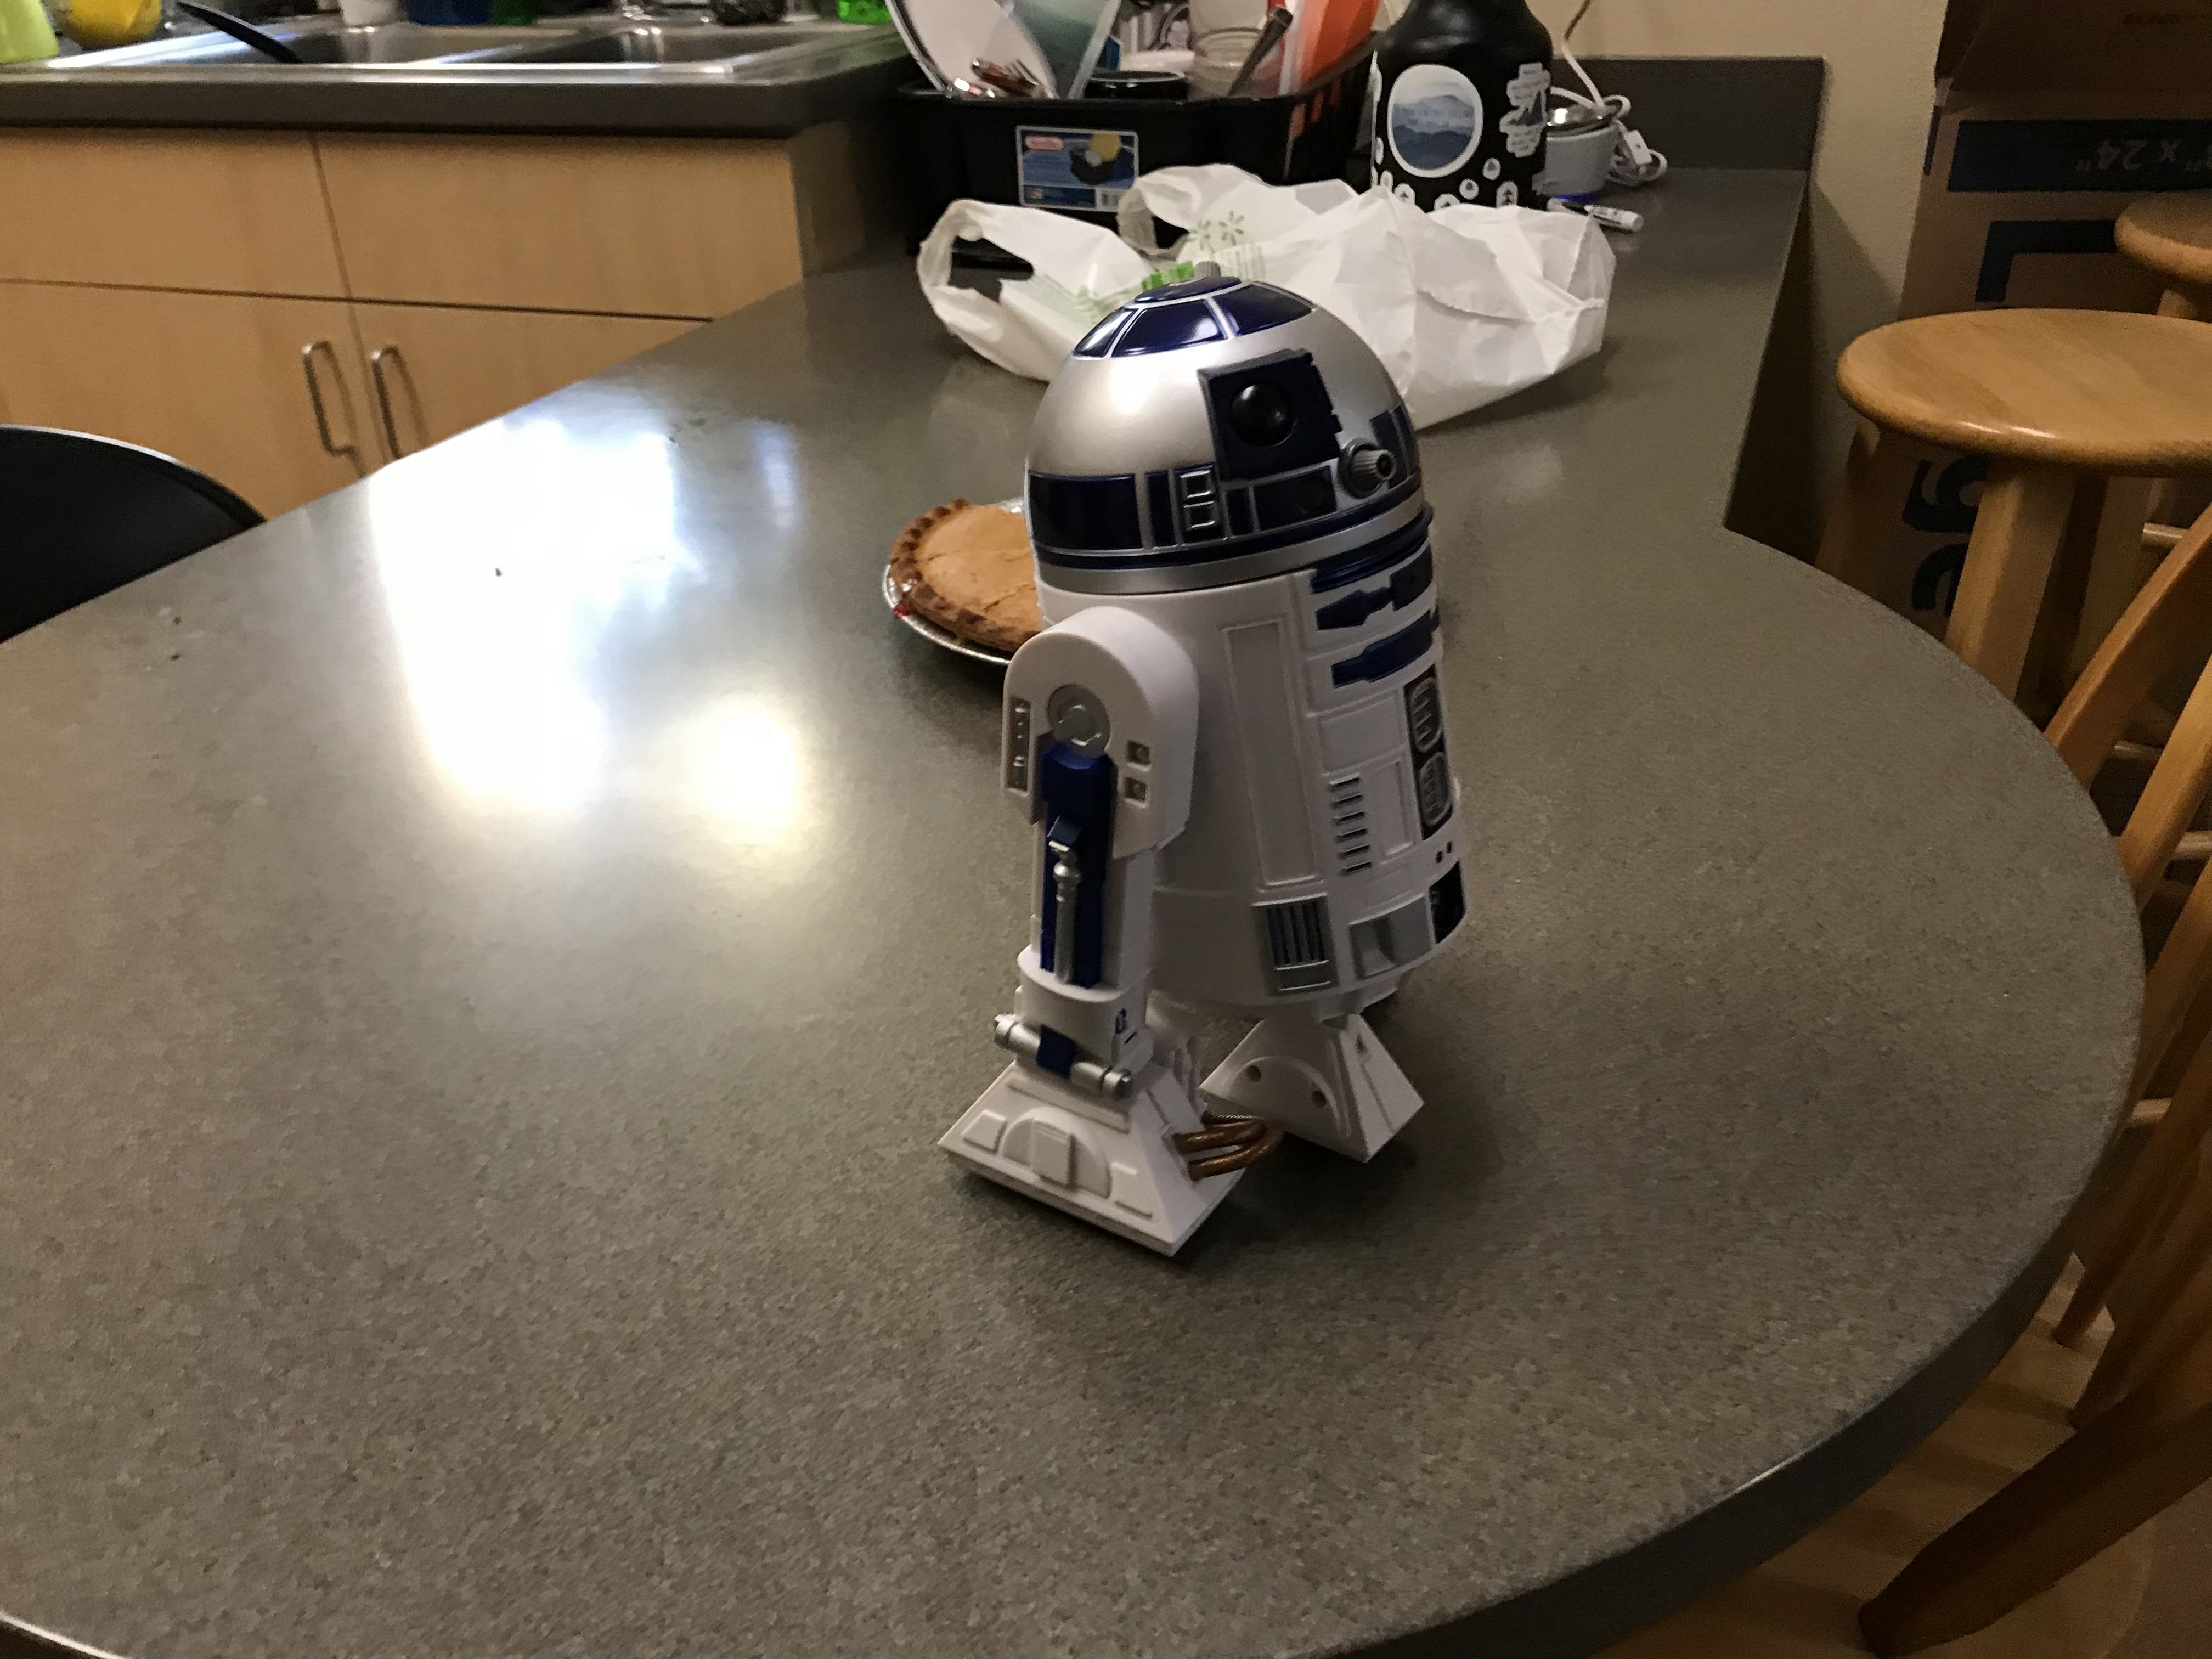r2d2: (941, 260, 1472, 1258)
